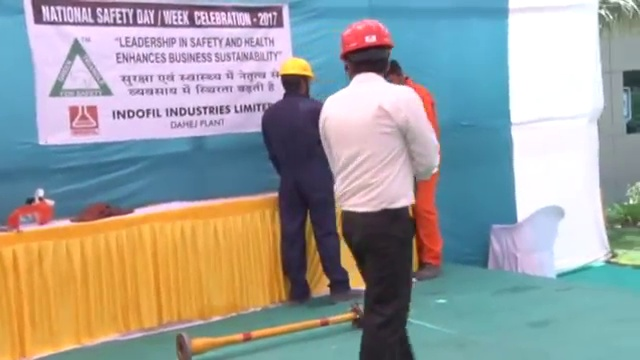helmet: (339, 18, 397, 58), (277, 55, 317, 82)
helmet_off: (385, 54, 410, 88)
helmet_on: (337, 15, 399, 83), (275, 53, 318, 101)
person: (318, 19, 440, 360), (260, 54, 362, 300), (384, 51, 447, 283)
